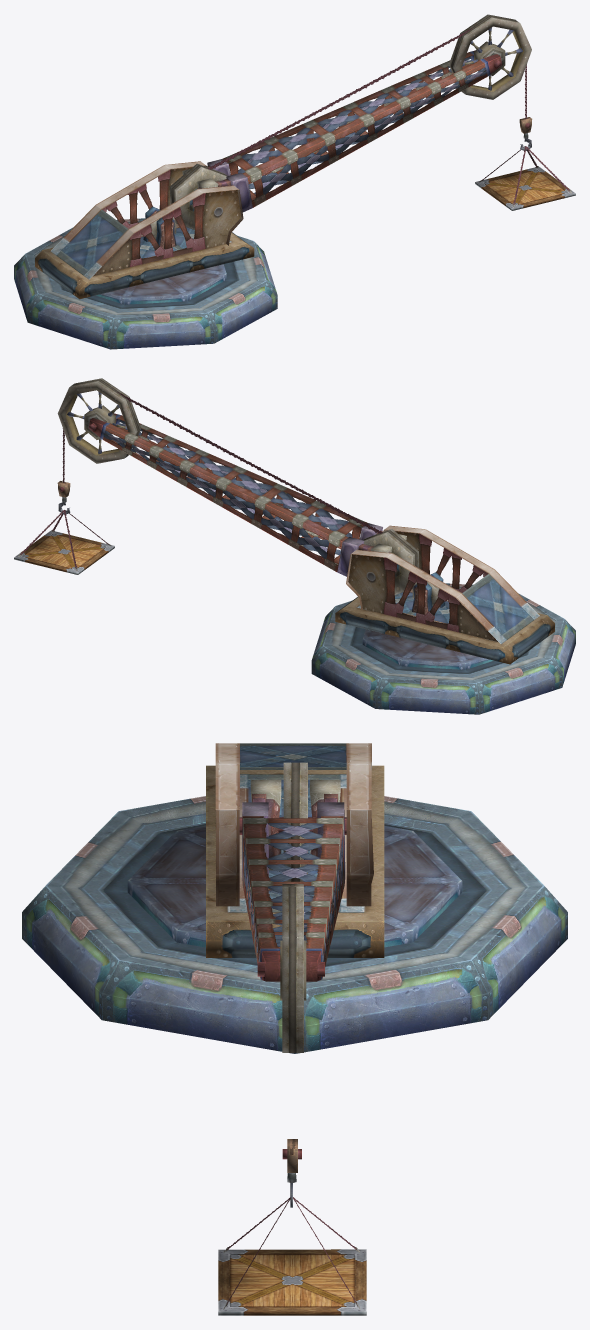
Rendered from obj_madaprcranesmall.glb.
3 views of the same model, one above another, from view 1: azimuth 30°, elevation 25°; view 2: azimuth 150°, elevation 25°; view 3: azimuth 270°, elevation 25° (orthographic). The views are drawn at different scales.
Parts seen in each view (by area): view 1: part_1, part_2, part_0; view 2: part_1, part_2, part_0; view 3: part_2, part_1, part_0.
Part boxes in pixels (x1,y1,x2,y2): part_1: (35, 14, 531, 299); part_2: (14, 218, 277, 349); part_0: (475, 64, 575, 210); part_1: (57, 378, 554, 664); part_2: (311, 583, 575, 714); part_0: (14, 428, 114, 574); part_2: (22, 796, 567, 1053); part_1: (206, 743, 384, 1052); part_0: (218, 1139, 366, 1315).
Bounding box in the file's own units: 39.07 × 13.67 × 17.46.
Materials: 1 (1 with a texture image).
